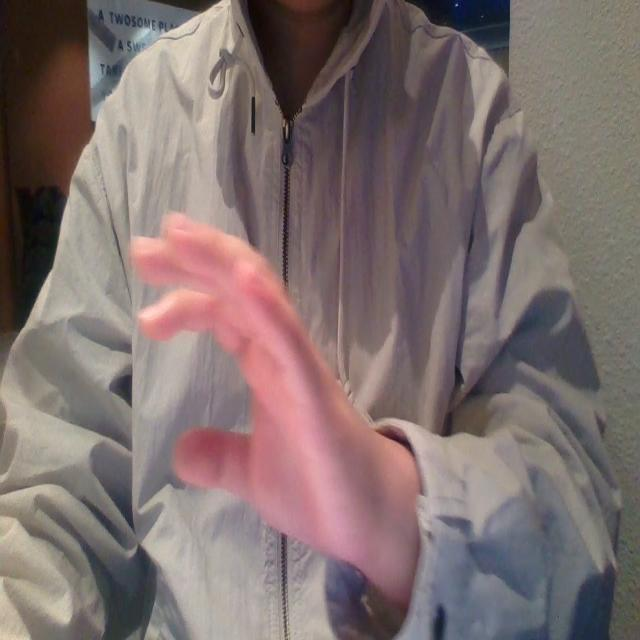hand: (124, 207, 384, 566)
